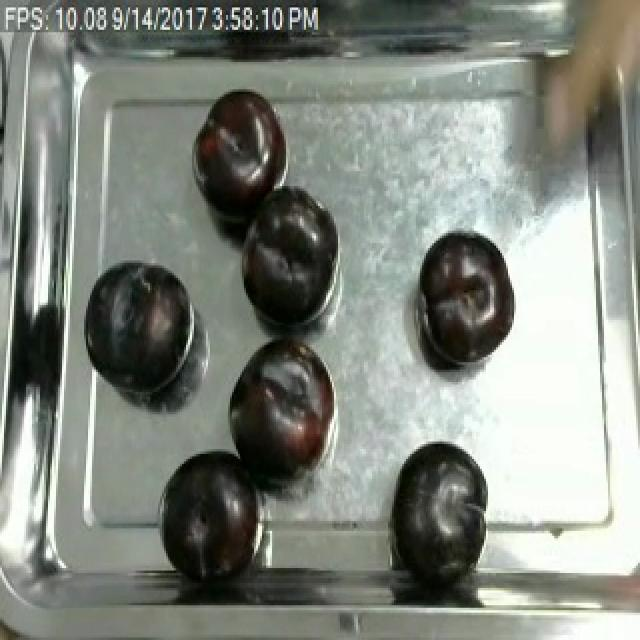Fruit: (82, 256, 198, 400), (222, 349, 338, 488), (414, 226, 520, 372), (238, 183, 338, 335), (386, 439, 492, 581), (156, 444, 266, 578), (188, 84, 292, 221)
